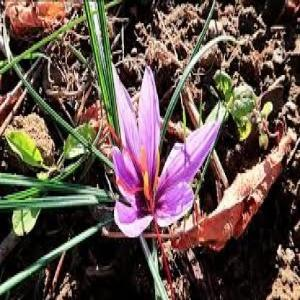Saffron: (109, 67, 217, 235)
